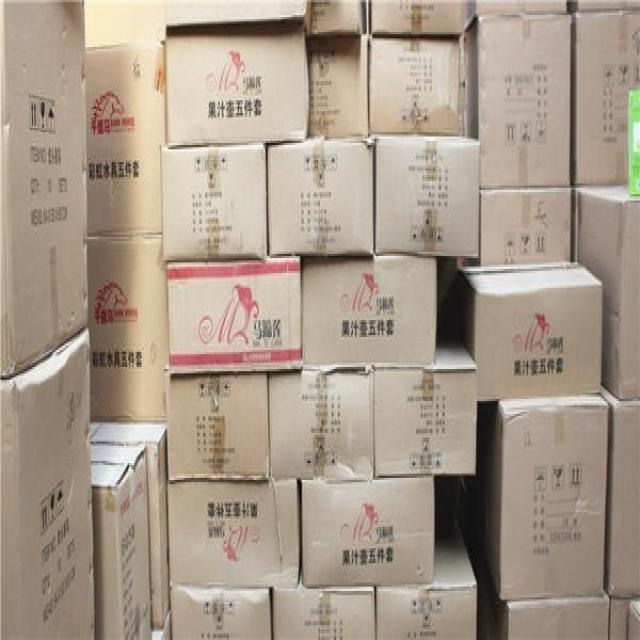box: (1, 0, 88, 382), (0, 326, 94, 638), (478, 393, 608, 598), (457, 261, 602, 400), (464, 17, 571, 188), (167, 29, 311, 146), (90, 424, 170, 632), (165, 258, 301, 377), (299, 254, 436, 372), (83, 43, 166, 236), (373, 335, 477, 479), (90, 235, 170, 422), (169, 481, 301, 589), (302, 480, 433, 587), (576, 186, 639, 401), (478, 539, 610, 638), (376, 511, 476, 638), (161, 145, 268, 260), (375, 139, 480, 256), (266, 144, 374, 257), (570, 9, 639, 185), (269, 368, 375, 481), (93, 442, 151, 638), (166, 374, 269, 481), (371, 39, 460, 138), (600, 385, 639, 599), (480, 185, 571, 268), (309, 35, 370, 138), (272, 588, 377, 638), (169, 588, 271, 638), (166, 1, 307, 30), (369, 2, 462, 35), (310, 2, 365, 34)
